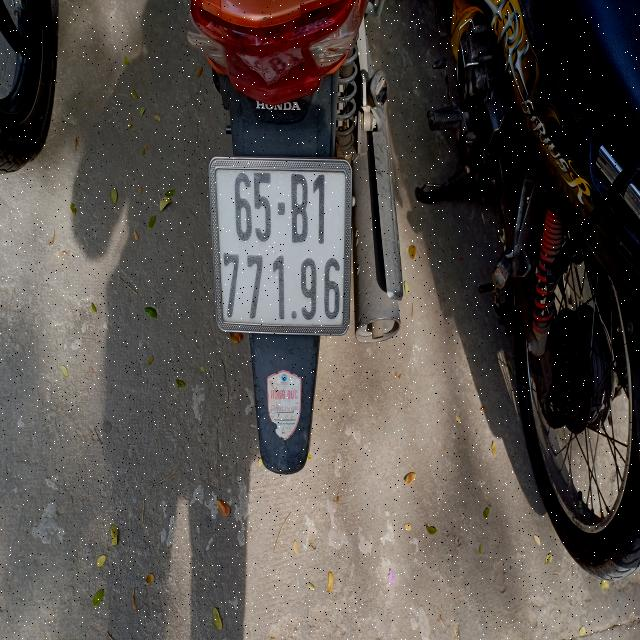1: (312, 171, 327, 245), (272, 255, 287, 322)
5: (252, 168, 275, 242)
6: (233, 170, 253, 243), (324, 255, 342, 322)
7: (246, 252, 264, 322), (222, 253, 240, 321)
9: (299, 256, 318, 320)
B: (289, 172, 309, 245)
